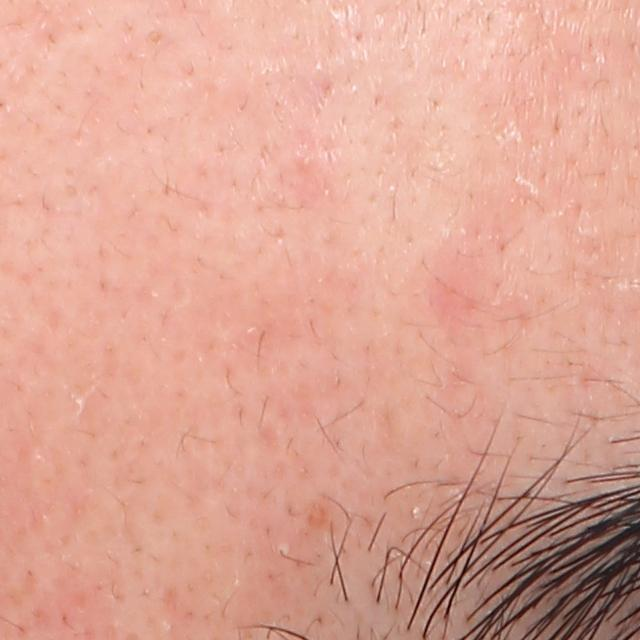comedo: (298, 152, 318, 173)
